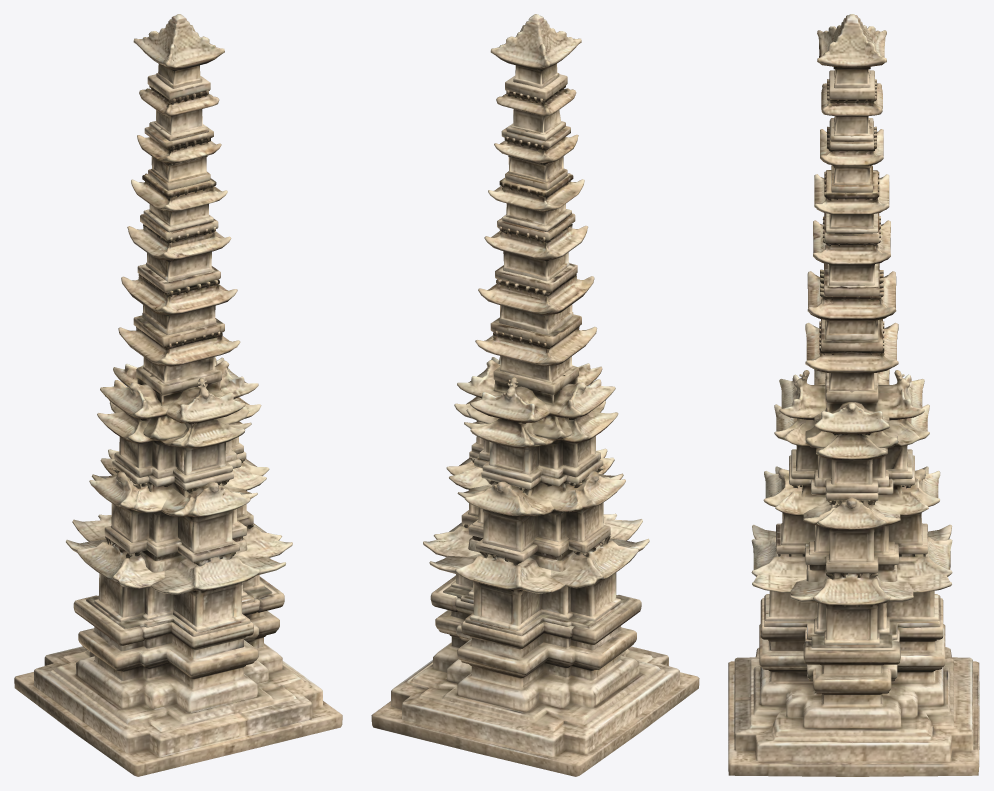
Rendered from stone-pagoda-9cc2fea1a9.glb.
3 views of the same model, side by side, from view 1: azimuth 30°, elevation 25°; view 2: azimuth 150°, elevation 25°; view 3: azimuth 270°, elevation 25° (orthographic). The views are drawn at different scales.
Visible parts, largest first — view 1: tripo_node_5950a17d-1285-4e30-8247-b76141758005; view 2: tripo_node_5950a17d-1285-4e30-8247-b76141758005; view 3: tripo_node_5950a17d-1285-4e30-8247-b76141758005.
Boxes of the visible parts, left/top/right/bottom form: tripo_node_5950a17d-1285-4e30-8247-b76141758005: left=14, top=14, right=342, bottom=776; tripo_node_5950a17d-1285-4e30-8247-b76141758005: left=371, top=14, right=699, bottom=776; tripo_node_5950a17d-1285-4e30-8247-b76141758005: left=728, top=14, right=979, bottom=776.
Size of the model in its own units: 0.3149 by 0.9995 by 0.3208.
1 material, 1 textured.
